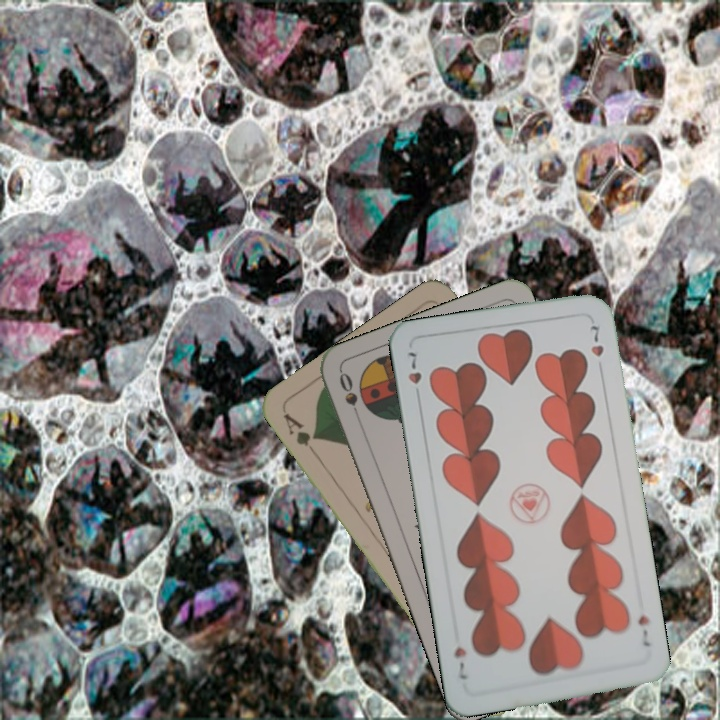GA: (279, 409, 321, 459)
H7: (403, 348, 424, 404), (634, 611, 653, 649)
SO: (335, 368, 364, 426)
